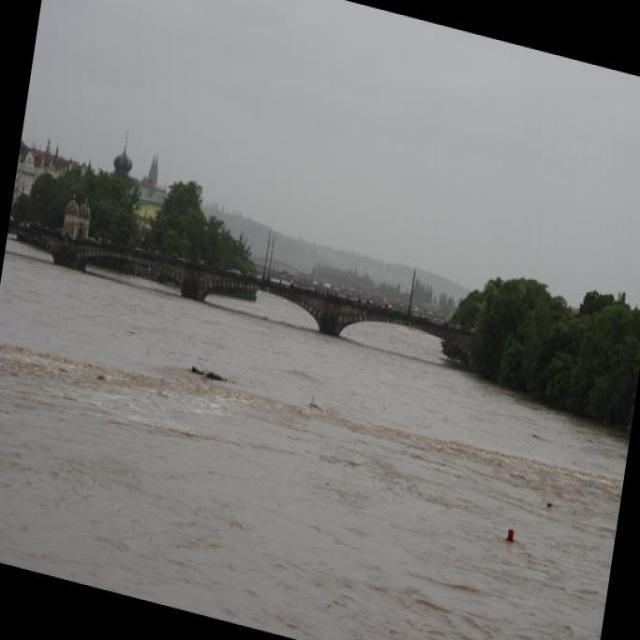flood: (0, 221, 637, 639)
